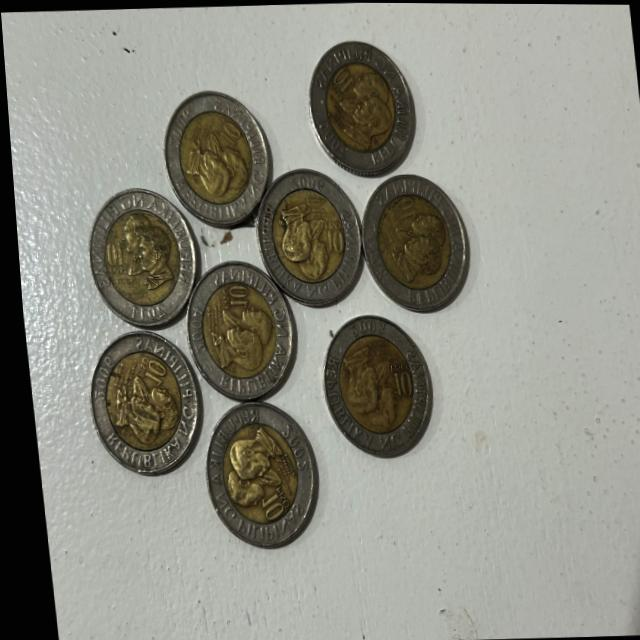10_Old_Front: (246, 474, 291, 528), (378, 355, 413, 411), (208, 270, 249, 309), (100, 229, 131, 276), (129, 350, 164, 387), (318, 213, 347, 256), (384, 192, 417, 229), (210, 111, 243, 144), (325, 63, 354, 99)
